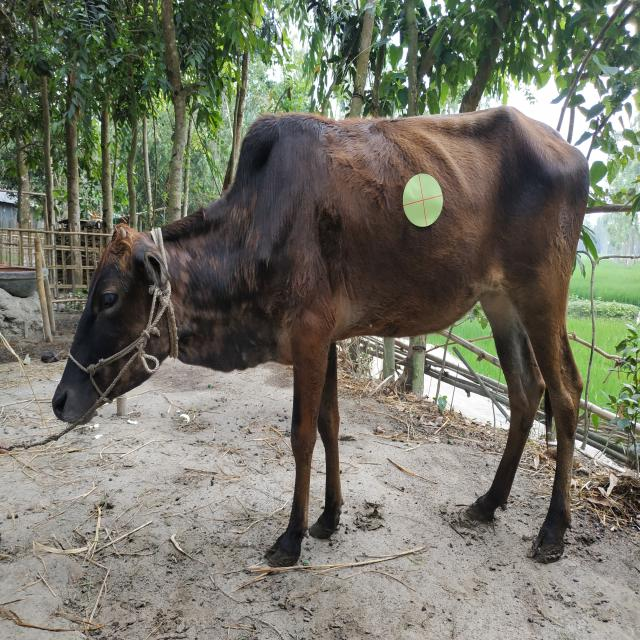badan_sapi: (250, 117, 578, 343)
sapi: (46, 94, 598, 590)
